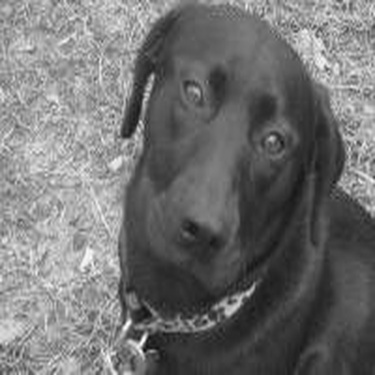dog: (108, 1, 373, 371)
